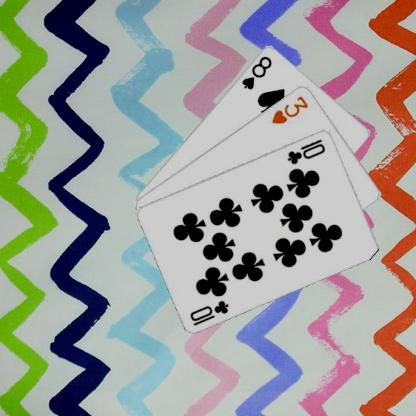10C: (188, 297, 230, 327), (284, 136, 327, 165)
3H: (269, 93, 310, 125)
8S: (239, 53, 273, 91)
